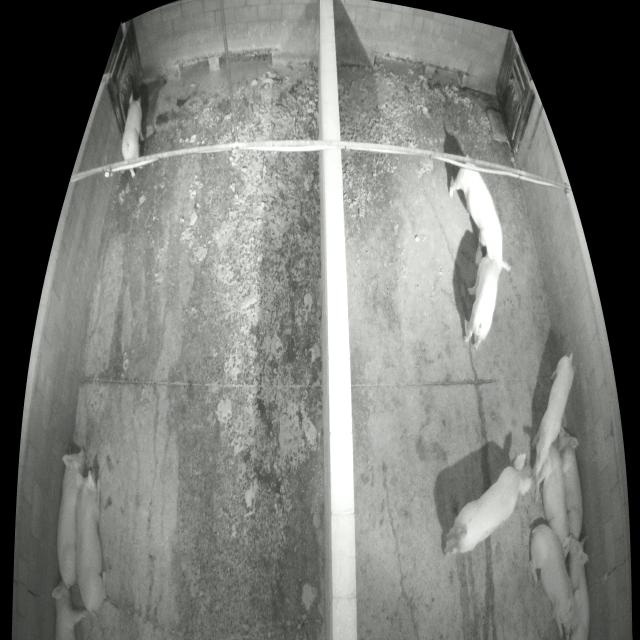pig: (441, 454, 532, 560), (449, 167, 511, 280), (529, 526, 577, 639), (532, 354, 574, 479), (75, 471, 106, 612), (56, 449, 85, 588), (463, 246, 498, 350), (535, 444, 569, 544), (563, 533, 591, 639), (558, 428, 584, 539), (51, 582, 87, 639), (122, 91, 145, 177)
